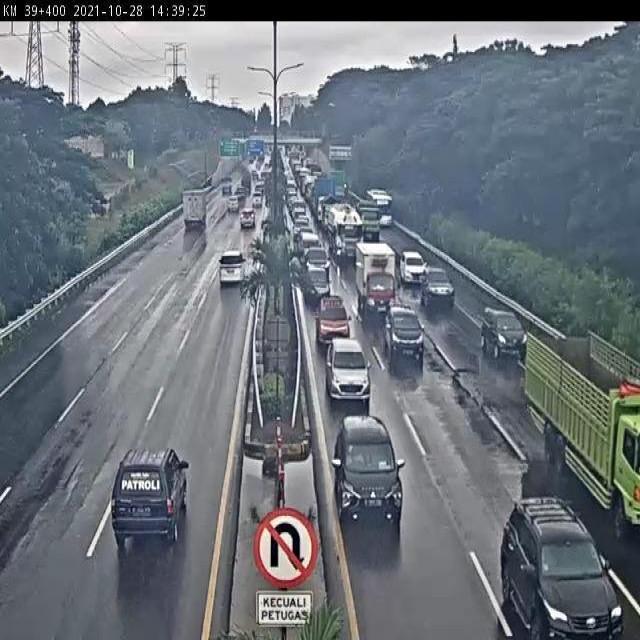car: (486, 485, 614, 640), (99, 408, 203, 569), (330, 409, 407, 536), (319, 331, 374, 412), (382, 303, 429, 371), (481, 305, 528, 367), (309, 291, 353, 345), (418, 260, 455, 312), (214, 244, 249, 295), (395, 243, 422, 281), (235, 203, 261, 235), (247, 190, 265, 214), (222, 195, 242, 213)
truck: (518, 316, 640, 543), (348, 243, 402, 323), (322, 200, 367, 268), (173, 184, 209, 240)
